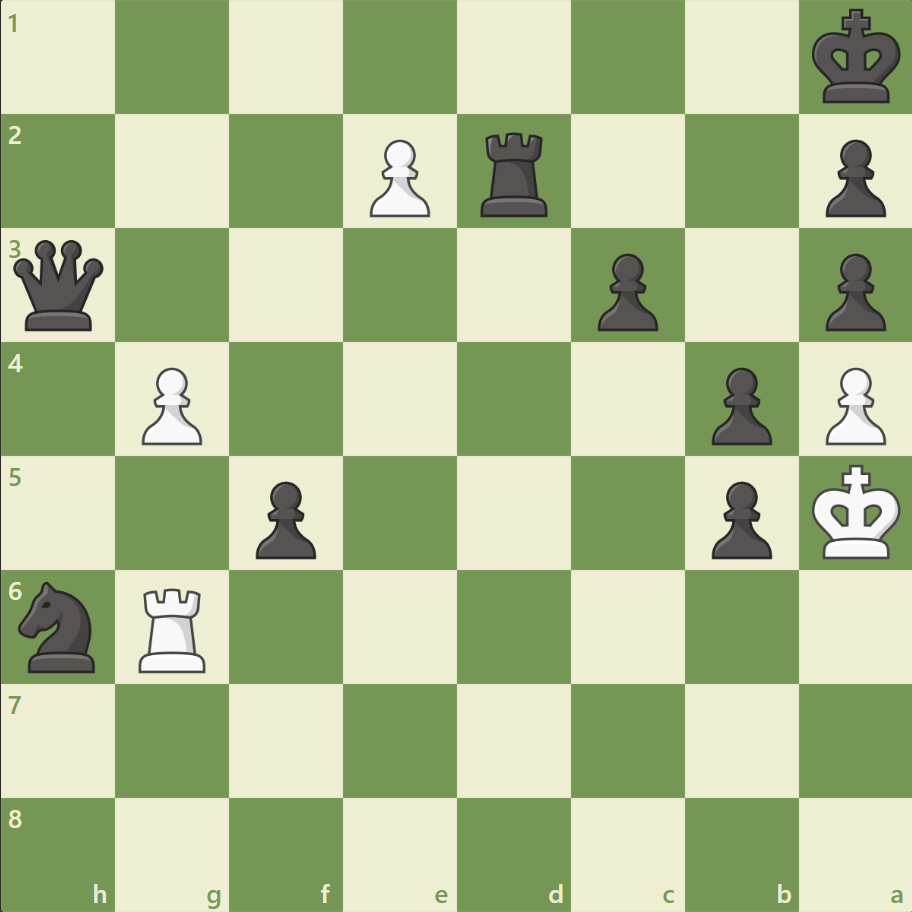K: (806, 458, 906, 566)
P: (133, 359, 208, 450), (815, 359, 889, 450), (361, 132, 435, 223)
R: (133, 579, 215, 676)
k: (806, 4, 906, 112)
n: (11, 575, 108, 677)
p: (701, 473, 776, 564), (247, 473, 322, 564), (701, 359, 776, 450), (815, 246, 889, 337), (588, 246, 662, 337), (815, 132, 889, 223)
q: (10, 236, 109, 335)
r: (473, 125, 556, 222)
